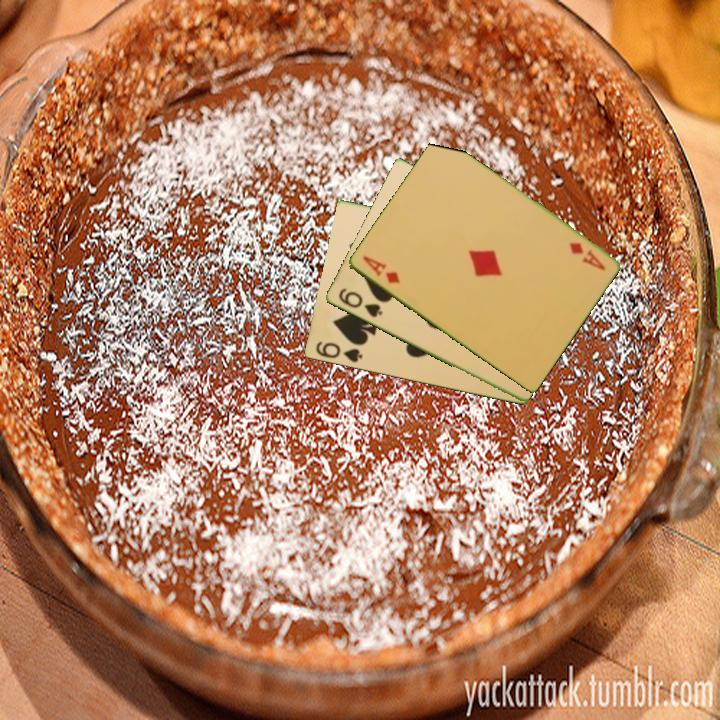6s: (335, 284, 385, 321), (312, 338, 365, 365)
Ad: (359, 252, 402, 286), (565, 239, 608, 273)
